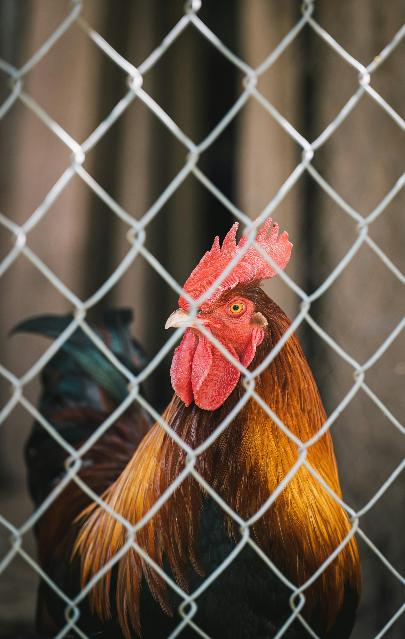Chicken: (11, 219, 359, 639)
